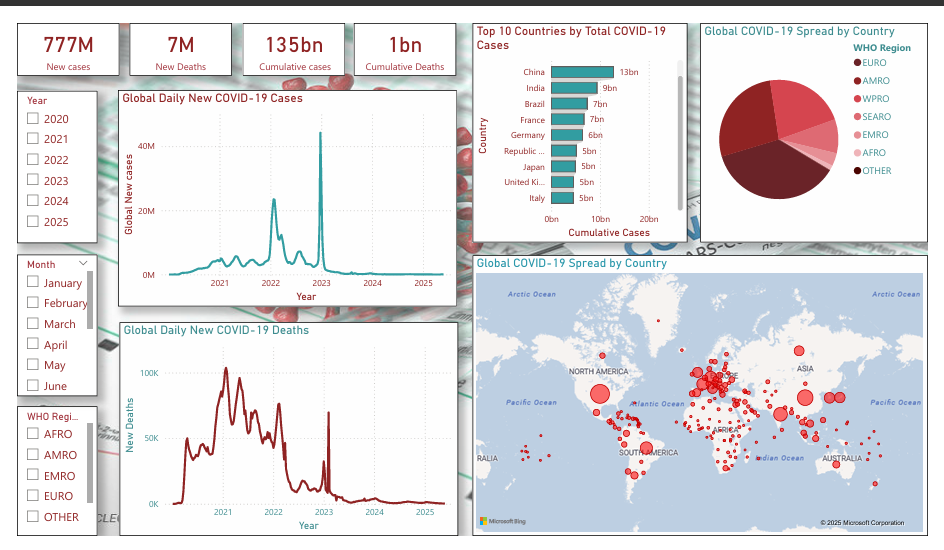

The page's visual inventory and layout, read from the dashboard file:
{"tool":"powerbi","page":{"name":"Page 1","canvas":[1280,720],"ordinal":0},"visuals":[{"type":"lineChart","title":"Global Daily New COVID-19 Cases","fields":{"Y":["Sum(WHO_COVID19_cleaned.New_cases)"],"Category":["WHO_COVID19_cleaned.Date_reported.Variation.Date Hierarchy.Year","WHO_COVID19_cleaned.Date_reported.Variation.Date Hierarchy.Month","WHO_COVID19_cleaned.Date_reported.Variation.Date Hierarchy.Day"]},"box":[142,94,476,304],"z":0},{"type":"card","fields":{"Values":["Sum(WHO_COVID19_cleaned.New_cases)"]},"box":[0,0,144.1,74.1],"z":1000},{"type":"card","fields":{"Values":["Sum(WHO_COVID19_cleaned.New_deaths)"]},"box":[157.8,0,144.1,74.1],"z":2000},{"type":"card","fields":{"Values":["Sum(WHO_COVID19_cleaned.Cumulative_cases)"]},"box":[317,0,144.1,74.1],"z":3000},{"type":"card","fields":{"Values":["Sum(WHO_COVID19_cleaned.Cumulative_deaths)"]},"box":[473.4,0,144.1,74.1],"z":4000},{"type":"slicer","fields":{"Values":["WHO_COVID19_cleaned.Date_reported.Variation.Date Hierarchy.Year"]},"box":[0,94.7,112.5,214.1],"z":5000},{"type":"slicer","fields":{"Values":["WHO_COVID19_cleaned.WHO_region"]},"box":[0,537.9,112.5,182.5],"z":6000},{"type":"lineChart","title":"Global Daily New COVID-19 Deaths","fields":{"Category":["WHO_COVID19_cleaned.Date_reported.Variation.Date Hierarchy.Year","WHO_COVID19_cleaned.Date_reported.Variation.Date Hierarchy.Month","WHO_COVID19_cleaned.Date_reported.Variation.Date Hierarchy.Day"],"Y":["Sum(WHO_COVID19_cleaned.New_deaths)"]},"box":[144,420,476,300],"z":7000},{"type":"barChart","title":"Top 10 Countries by Total COVID-19 Cases","fields":{"Y":["Sum(WHO_COVID19_cleaned.Cumulative_cases)"],"Category":["WHO_COVID19_cleaned.Country"]},"box":[640,0,302,308],"z":8000},{"type":"slicer","fields":{"Values":["WHO_COVID19_cleaned.Date_reported.Variation.Date Hierarchy.Month"]},"box":[0,325.2,112.5,199],"z":9000},{"type":"pieChart","title":"Global COVID-19 Spread by Country","fields":{"Y":["Sum(WHO_COVID19_cleaned.Cumulative_cases)"],"Category":["WHO_COVID19_cleaned.WHO_region"]},"box":[960,0,320,308],"z":10000},{"type":"map","title":"Global COVID-19 Spread by Country","fields":{"Category":["WHO_COVID19_cleaned.Country"],"Size":["Sum(WHO_COVID19_cleaned.Cumulative_cases)"]},"box":[640,326,640,394],"z":11000}]}

Visuals, with their boxes on the page's 1280x720 design canvas (x1, y1, x2, y2). These are canvas units, not pixel positions in the 944x550 screenshot, which may show the page scaled, cropped or inside an application window:
"Global Daily New COVID-19 Cases" lineChart: <region>142, 94, 618, 398</region>
card - Sum(WHO_COVID19_cleaned.New_cases): <region>0, 0, 144, 74</region>
card - Sum(WHO_COVID19_cleaned.New_deaths): <region>158, 0, 302, 74</region>
card - Sum(WHO_COVID19_cleaned.Cumulative_cases): <region>317, 0, 461, 74</region>
card - Sum(WHO_COVID19_cleaned.Cumulative_deaths): <region>473, 0, 618, 74</region>
slicer - WHO_COVID19_cleaned.Date_reported.Variation.Date Hierarchy.Year: <region>0, 95, 112, 309</region>
slicer - WHO_COVID19_cleaned.WHO_region: <region>0, 538, 112, 720</region>
"Global Daily New COVID-19 Deaths" lineChart: <region>144, 420, 620, 720</region>
"Top 10 Countries by Total COVID-19 Cases" barChart: <region>640, 0, 942, 308</region>
slicer - WHO_COVID19_cleaned.Date_reported.Variation.Date Hierarchy.Month: <region>0, 325, 112, 524</region>
"Global COVID-19 Spread by Country" pieChart: <region>960, 0, 1280, 308</region>
"Global COVID-19 Spread by Country" map: <region>640, 326, 1280, 720</region>
